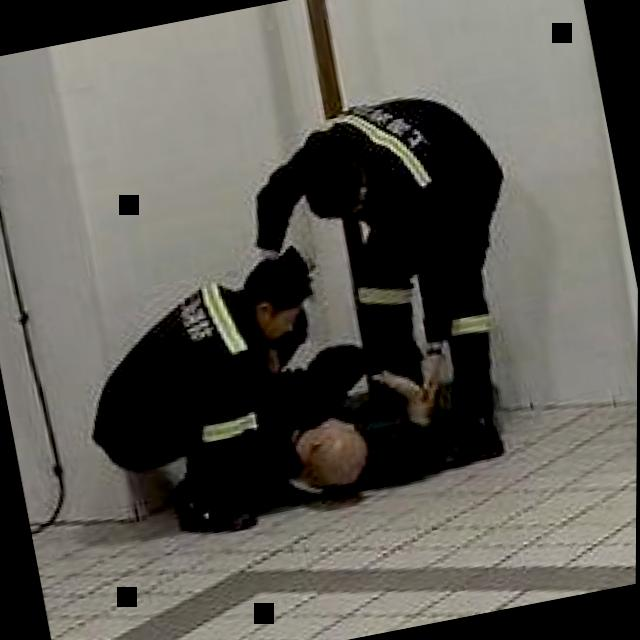Fall-Detected: (200, 308, 480, 520)
